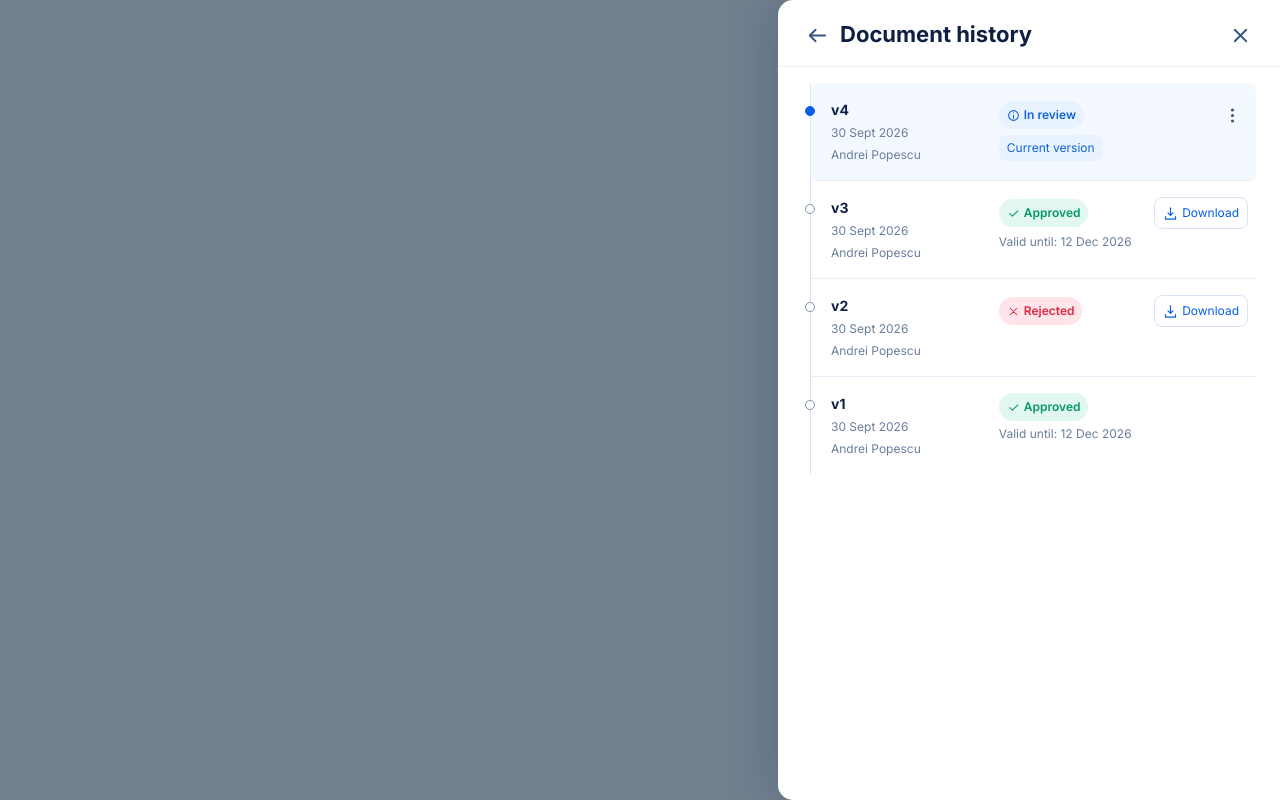
Scenario: canonical document details and internal drawer navigation › reports an unavailable/stale historical file safely and clears feedback on a successful retry (EN=true)
Click the button "Download" next to "Rejected": (1201, 311) [1154, 295, 1248, 327]
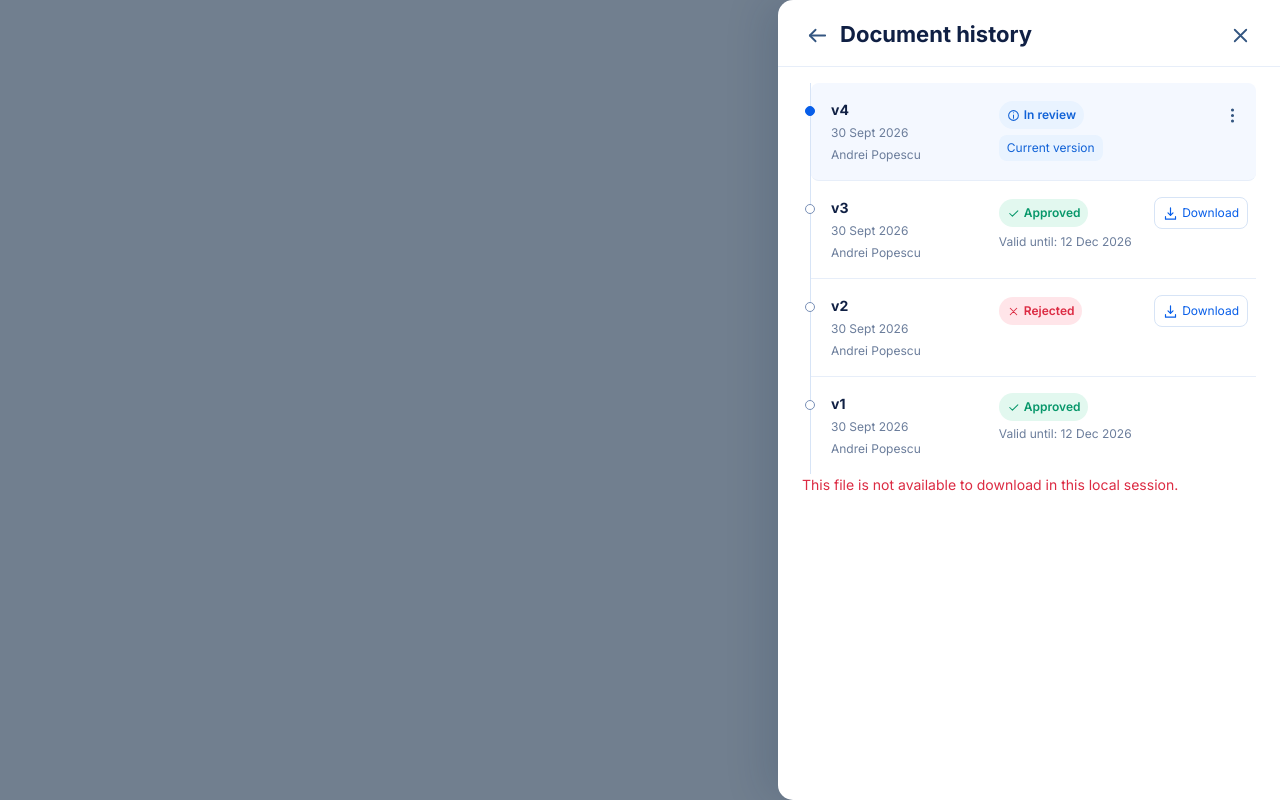
Check: the number of list items is 4, box [811, 83, 1256, 181]; [811, 181, 1256, 279]; [811, 279, 1256, 377]; [831, 393, 1132, 456]
Check: the message reads "This file is not available to download in this local session.", box [802, 476, 1178, 493]
Click the button "Download" next to "Rejected": (1201, 311) [1154, 295, 1248, 327]
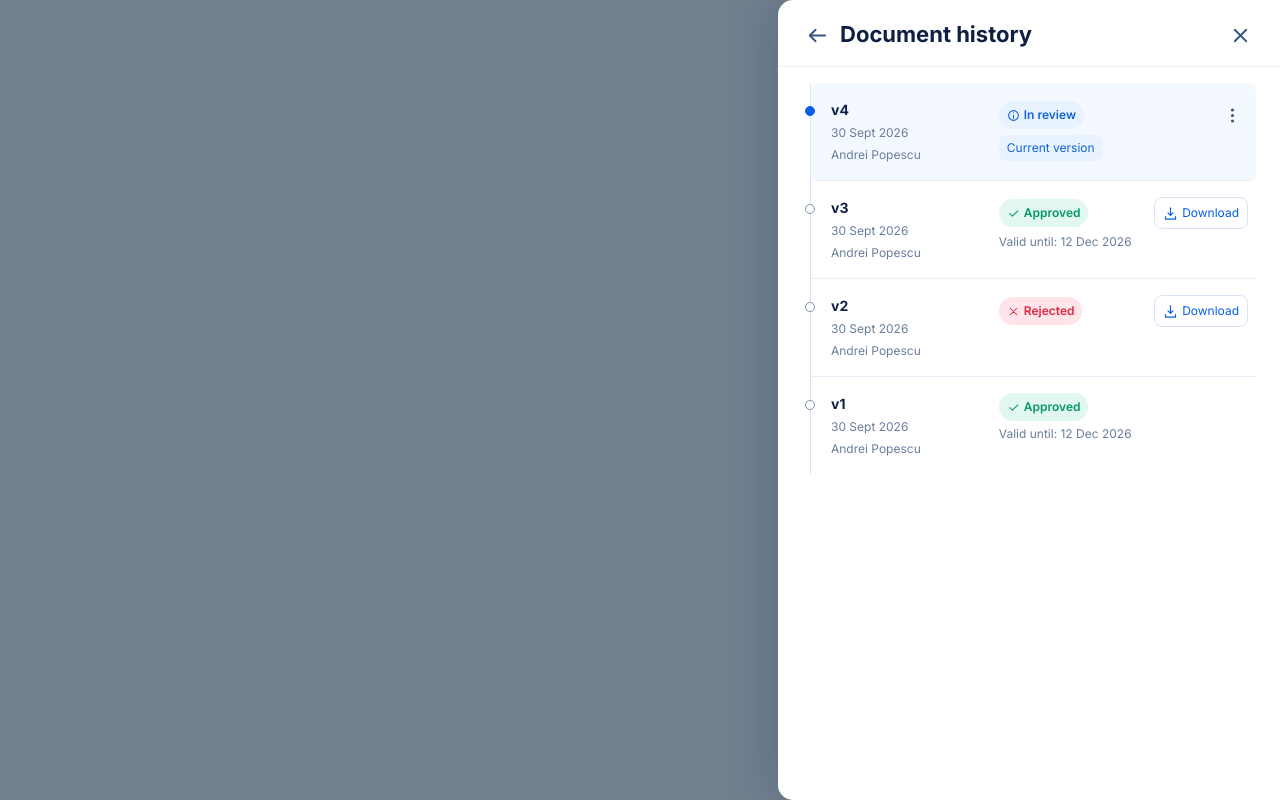
Check: the message "This file is not available to download in this local session." is gone
